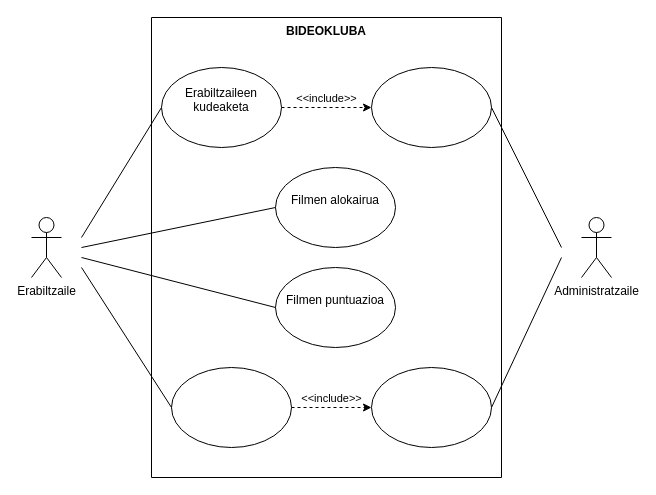
Image size: 656x495. Some labels were removed from this diagram. The box of each missing label's shape, as (x1, y1, x2, y2) in pixels:
Erabiltzaile berria onartu: (370, 66, 492, 148)
Film berria onartu: (370, 366, 492, 448)
Film berriak sartzea: (170, 366, 292, 448)
